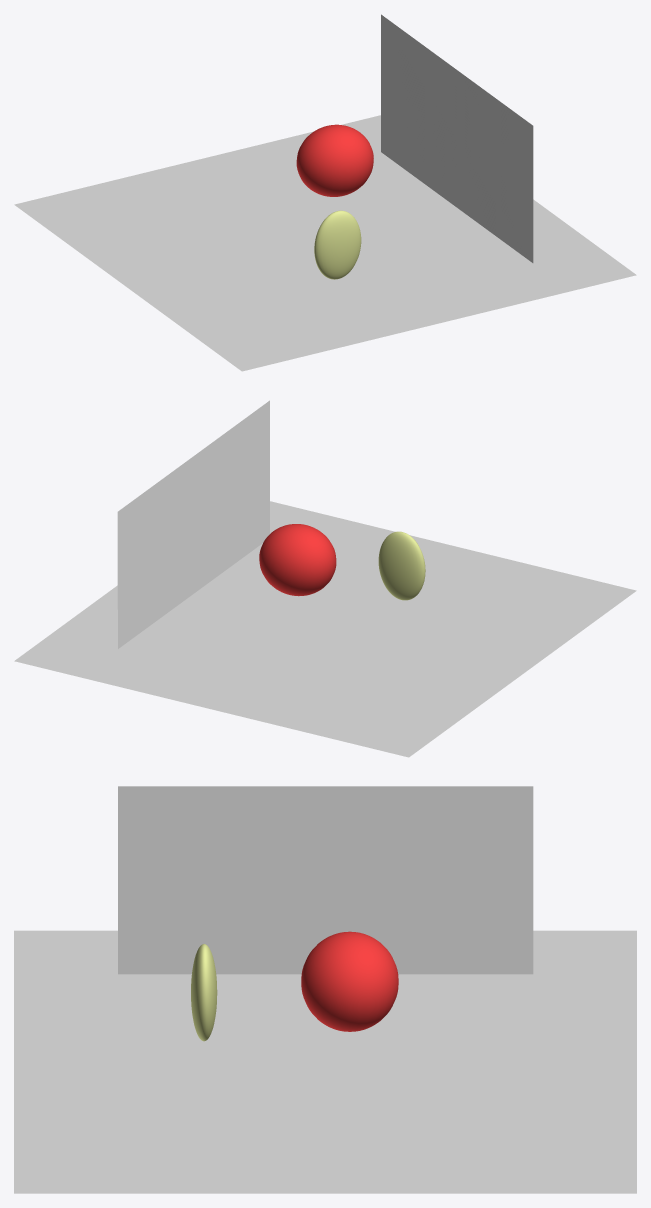
3 renders of one model, top to bottom at view 1: azimuth 30°, elevation 25°; view 2: azimuth 150°, elevation 25°; view 3: azimuth 270°, elevation 25°, orthographic. The views are drawn at different scales.
Parts seen in each view (by area): view 1: Plane, Plane.001, Sphere (×2); view 2: Plane, Plane.001, Sphere (×2); view 3: Plane, Plane.003, Sphere (×2).
Part boxes in pixels (x1,y1,x2,y2): Plane: (14,115,636,371); Plane.001: (381,14,533,262); Sphere (×2): (296,124,373,279); Plane: (14,501,636,757); Plane.001: (117,400,269,648); Sphere (×2): (259,524,425,600); Plane: (14,930,636,1193); Plane.003: (118,786,533,974); Sphere (×2): (191,931,398,1041).
Bounding box in the file's own units: 6 × 2 × 6.
